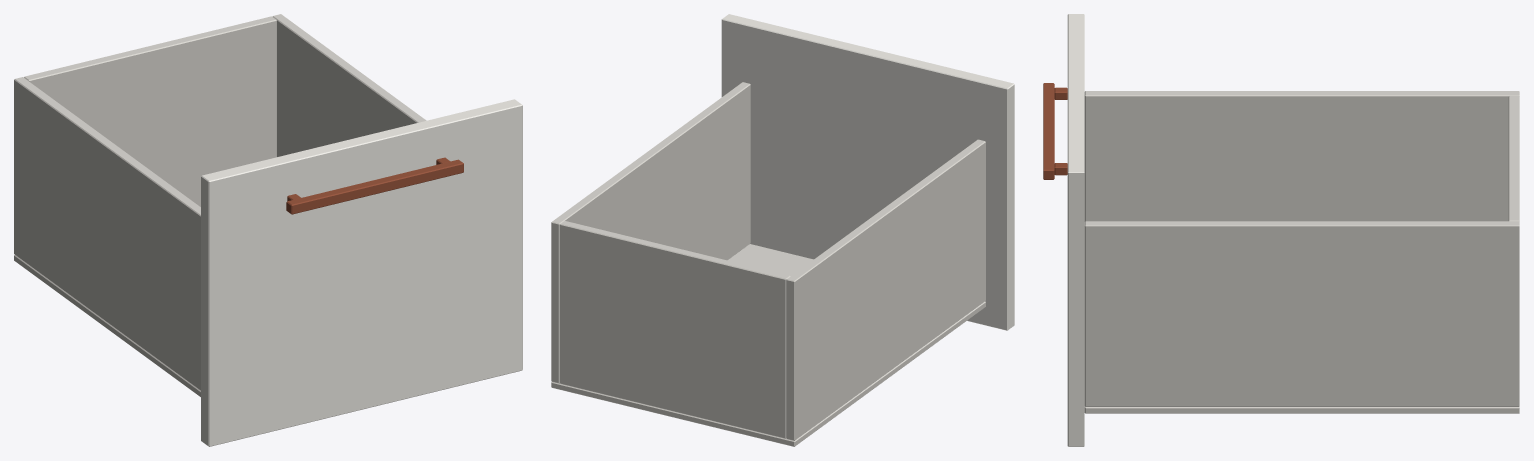
Rendered from l_kitchen_appliances_b4_bottom_drawer.glb.
3 views of the same model, side by side, from view 1: azimuth 30°, elevation 25°; view 2: azimuth 150°, elevation 25°; view 3: azimuth 270°, elevation 25° (orthographic). The views are drawn at different scales.
Visible parts, largest first — view 1: l_kitchen_appliances_b4_bottom_drawer; view 2: l_kitchen_appliances_b4_bottom_drawer; view 3: l_kitchen_appliances_b4_bottom_drawer.
Boxes of the visible parts, x1=… form: l_kitchen_appliances_b4_bottom_drawer: x1=14, y1=14, x2=522, y2=446; l_kitchen_appliances_b4_bottom_drawer: x1=551, y1=14, x2=1014, y2=446; l_kitchen_appliances_b4_bottom_drawer: x1=1043, y1=14, x2=1519, y2=446.
Size of the model in its own units: 0.397 by 0.321 by 0.504.
